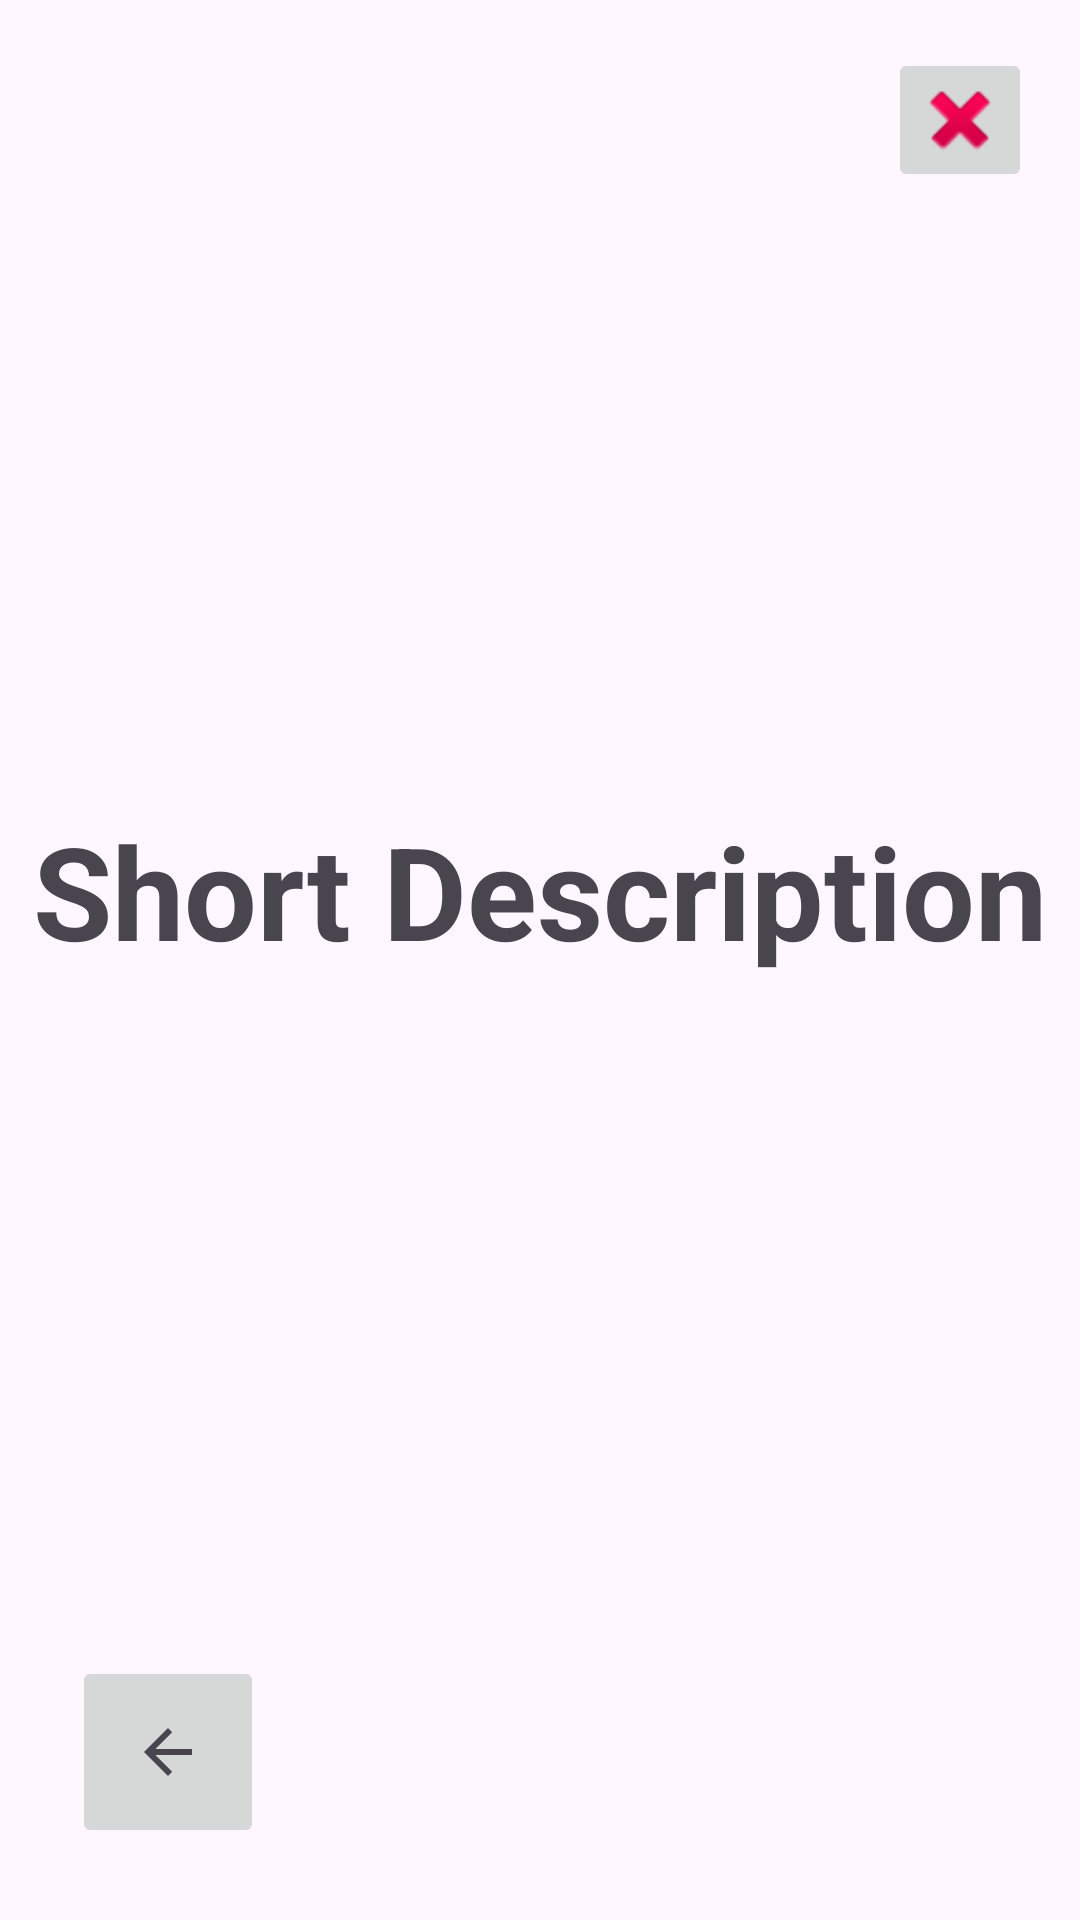

Screen size 1080x1920. Icon name, then its center in pixels as (x,y):
delete: (960,120)
